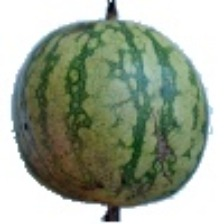watermelon: (0, 29, 191, 215)
